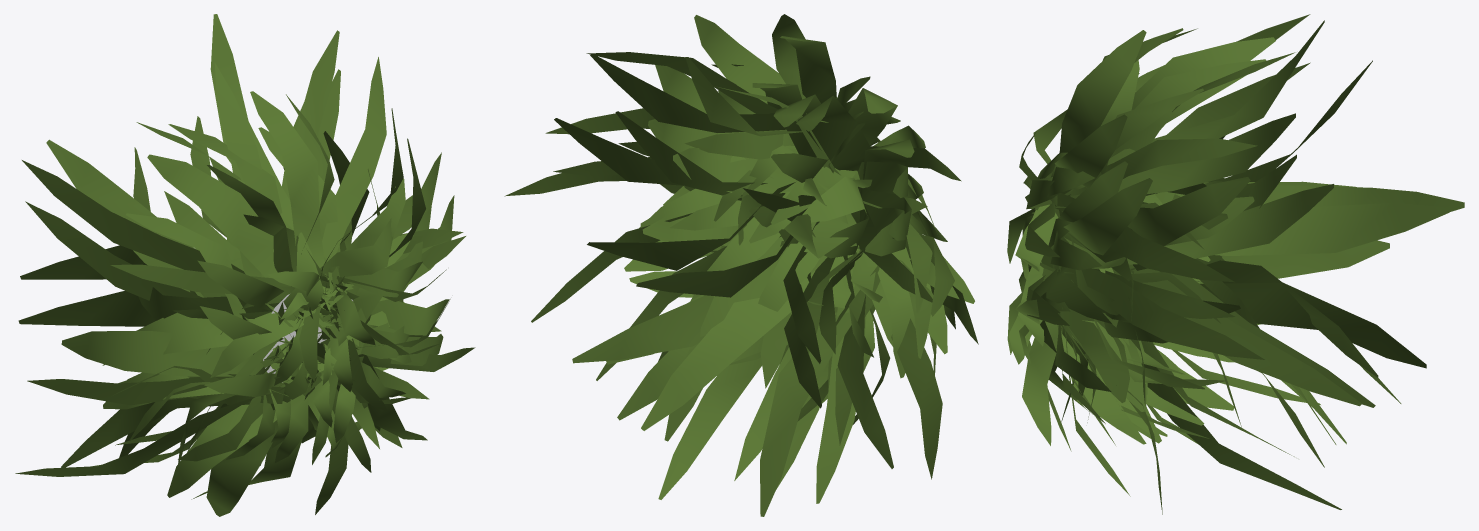
Rendered from Cesped2Opt.fbx.
3 renders of one model, left to right at view 1: azimuth 30°, elevation 25°; view 2: azimuth 150°, elevation 25°; view 3: azimuth 270°, elevation 25°, orthographic. The views are drawn at different scales.
Parts seen in each view (by area): view 1: GHI1.002; view 2: GHI1.002; view 3: GHI1.002.
Boxes of the visible parts, box(x1,y1,x2,y2) form: GHI1.002: box(15, 14, 475, 516); GHI1.002: box(504, 14, 978, 516); GHI1.002: box(1007, 14, 1464, 514).
Bounding box in the file's own units: 1.14 × 1.33 × 1.4.
